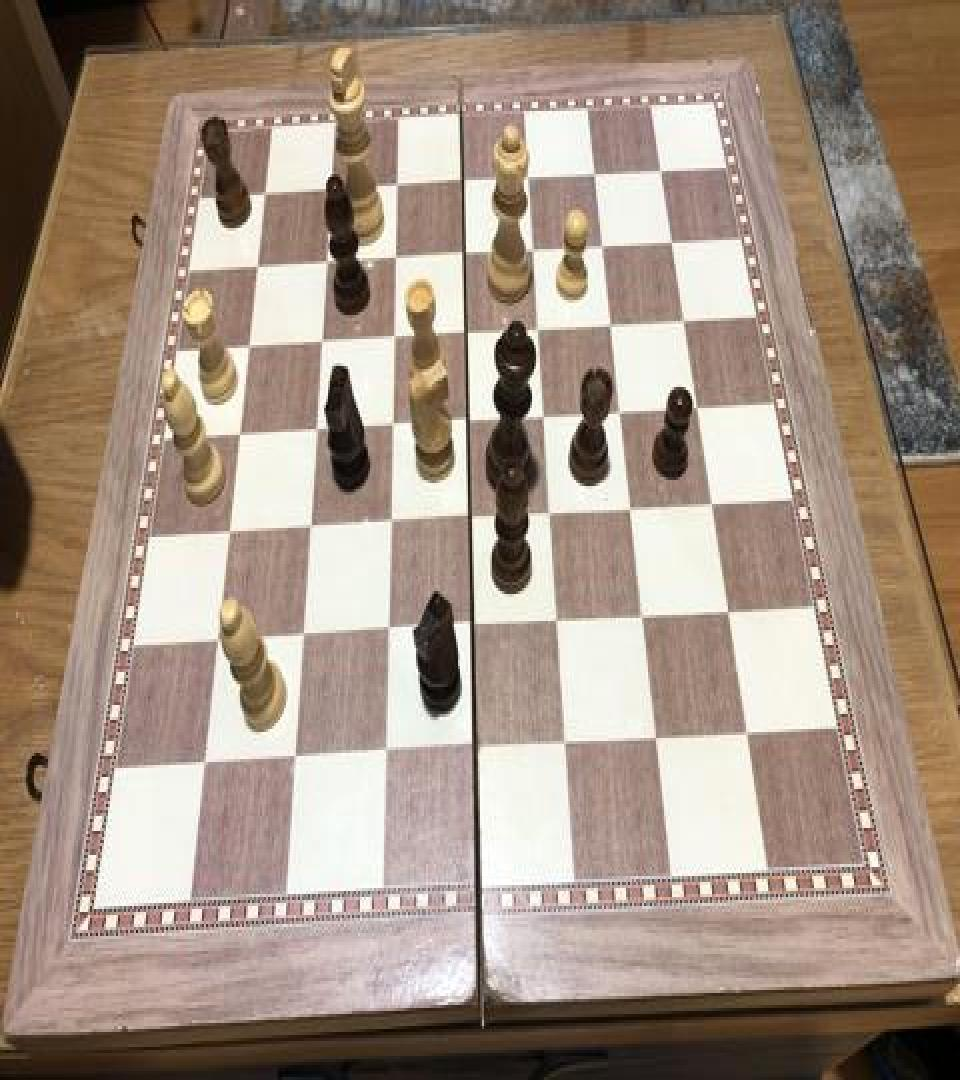xcorner: (546, 601, 570, 638), (290, 616, 314, 653), (645, 718, 669, 755), (282, 739, 306, 776), (648, 148, 672, 184), (582, 153, 606, 189), (515, 158, 539, 194), (449, 160, 473, 196), (384, 165, 408, 201), (318, 170, 342, 206), (252, 174, 276, 210), (659, 220, 683, 256), (590, 225, 614, 261), (520, 230, 544, 266), (451, 234, 475, 270), (382, 237, 406, 273), (313, 242, 337, 278), (245, 246, 269, 282), (671, 298, 695, 334), (598, 303, 622, 339), (526, 308, 550, 344), (453, 312, 477, 348), (381, 316, 405, 352), (308, 321, 332, 357), (236, 326, 260, 362), (685, 387, 709, 423), (608, 392, 632, 428), (532, 396, 556, 432), (455, 400, 479, 436), (379, 405, 403, 441), (303, 410, 327, 446), (227, 414, 251, 450), (700, 483, 724, 519), (619, 488, 643, 524), (538, 494, 562, 530), (458, 498, 482, 534), (377, 502, 401, 538), (297, 507, 321, 543), (217, 513, 241, 549), (717, 591, 741, 627), (631, 597, 655, 633), (460, 608, 484, 644), (375, 612, 399, 648), (205, 621, 229, 657), (736, 714, 760, 750), (554, 724, 578, 760), (463, 729, 487, 765), (373, 735, 397, 771), (192, 746, 216, 782)
